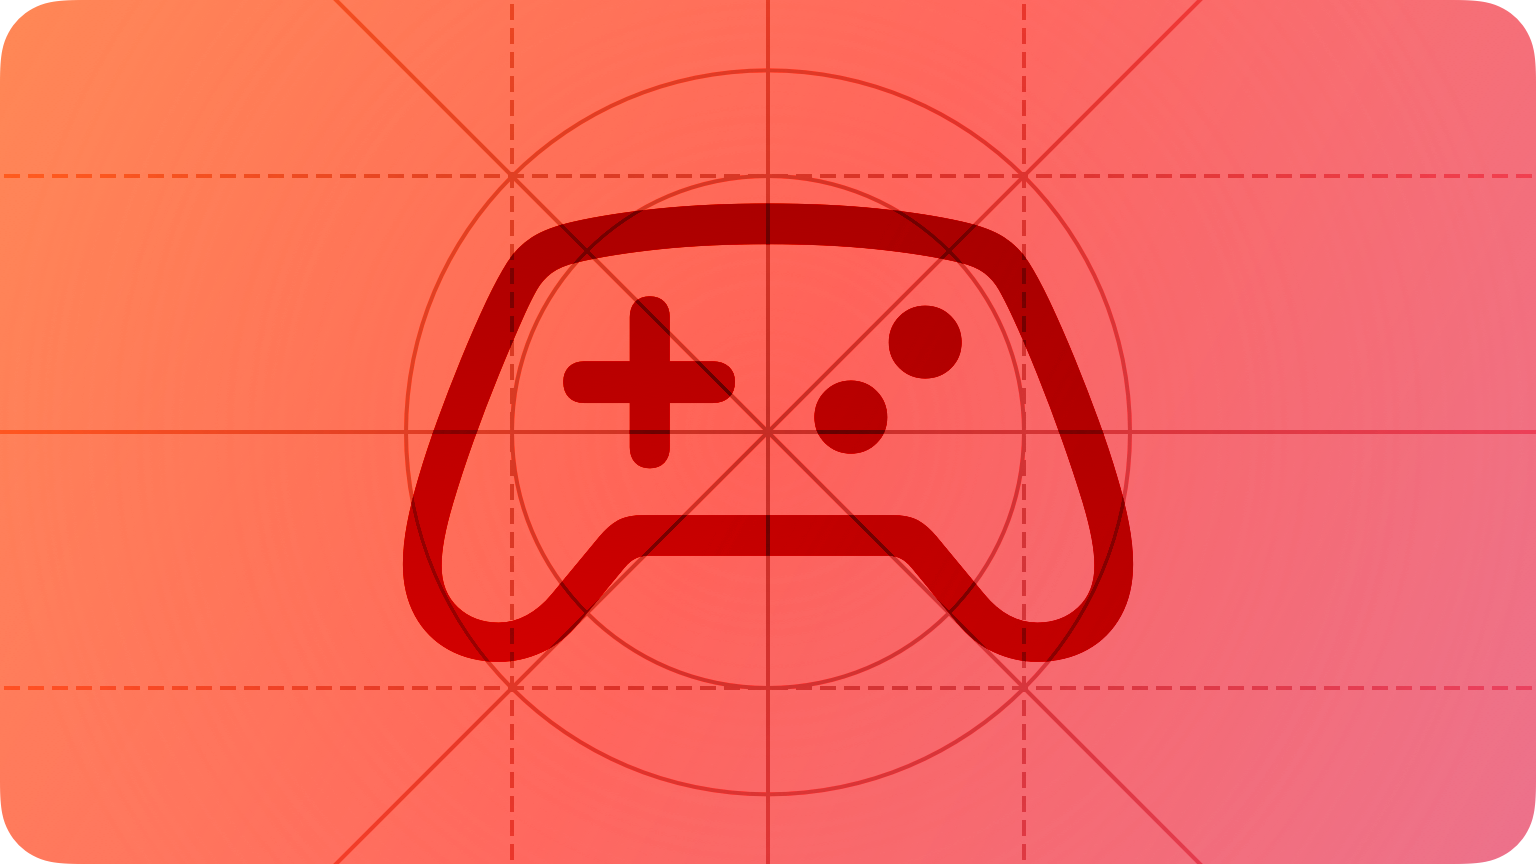controller: (402, 201, 1136, 663)
